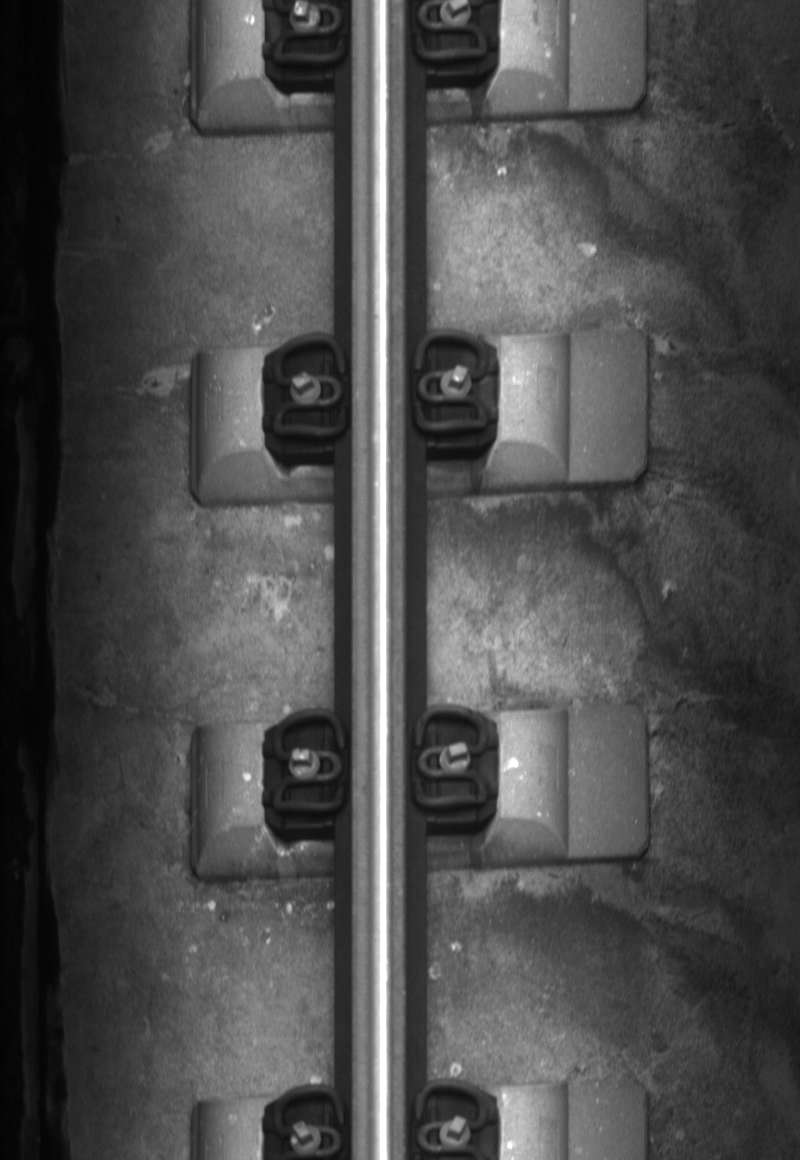l_faster: (266, 328, 350, 446), (267, 707, 350, 819)
r_faster: (408, 698, 493, 816), (409, 327, 493, 438)
